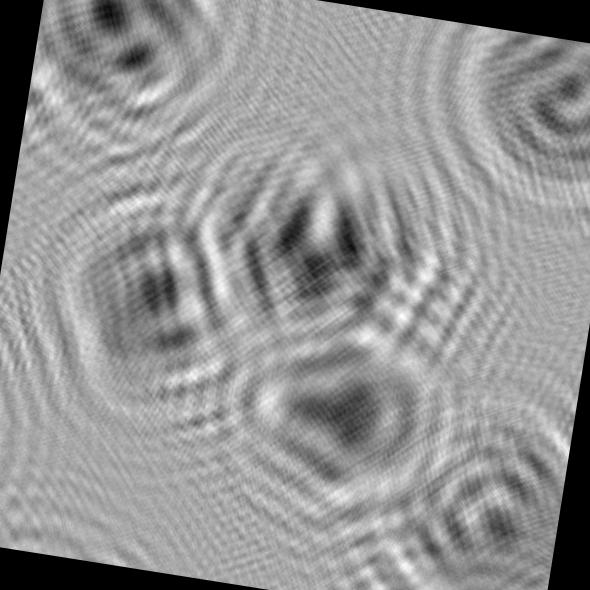A: (201, 282, 496, 572)
D: (404, 18, 590, 244)
F: (5, 146, 320, 473)
R: (20, 0, 266, 178)
U: (364, 387, 574, 590)
W: (186, 120, 516, 392)
